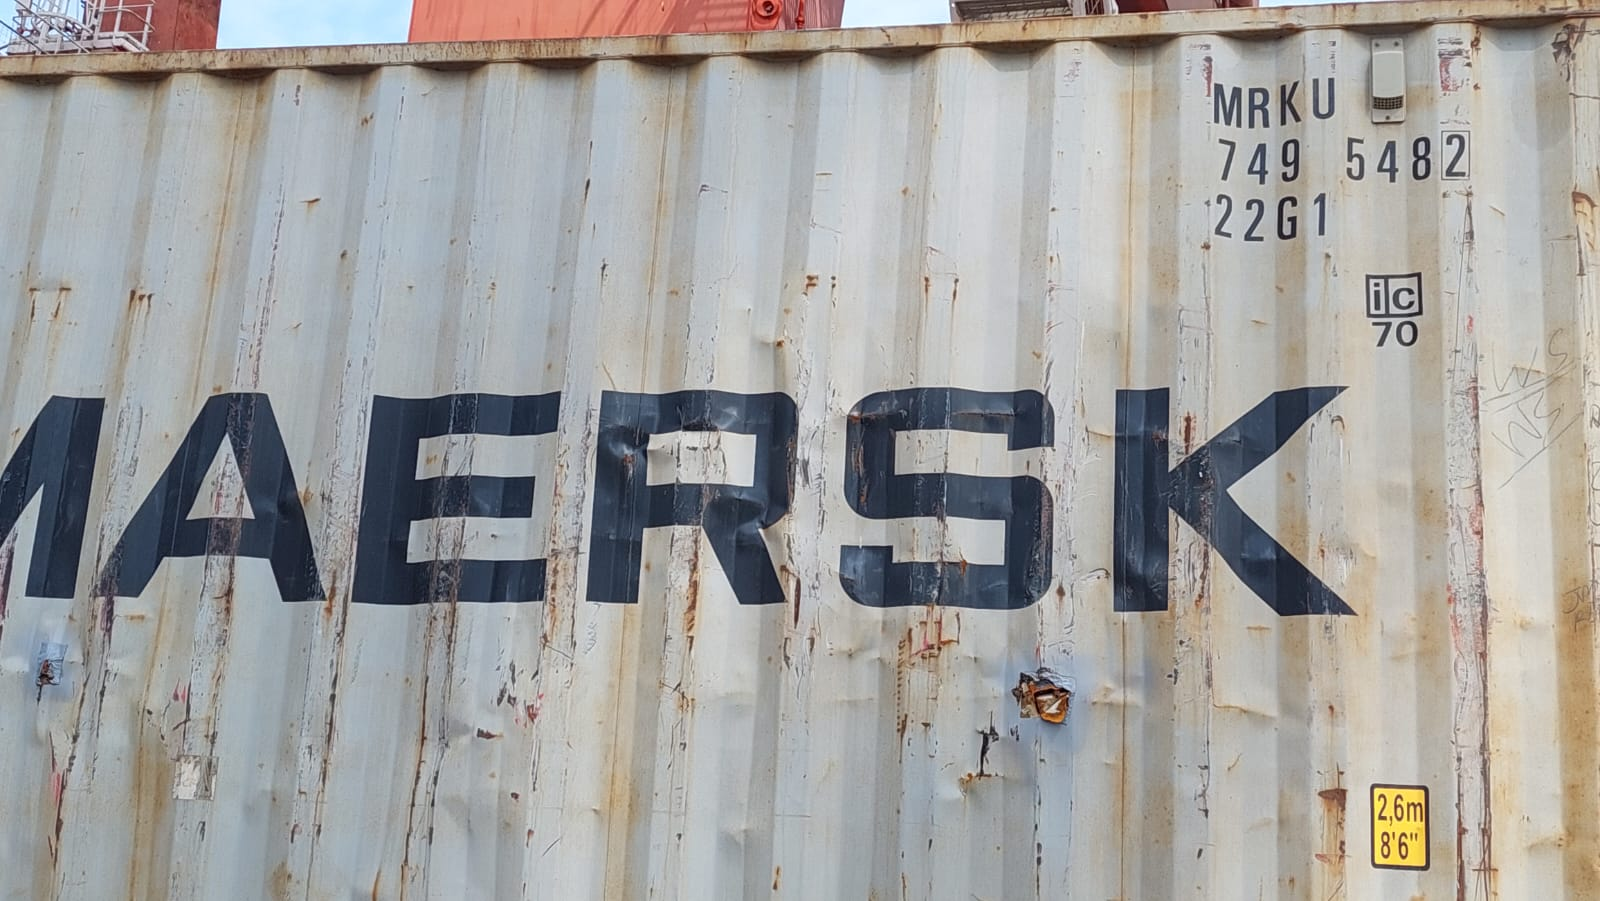cut: (2, 623, 125, 731), (995, 663, 1115, 761)
dented: (316, 358, 1149, 575)
